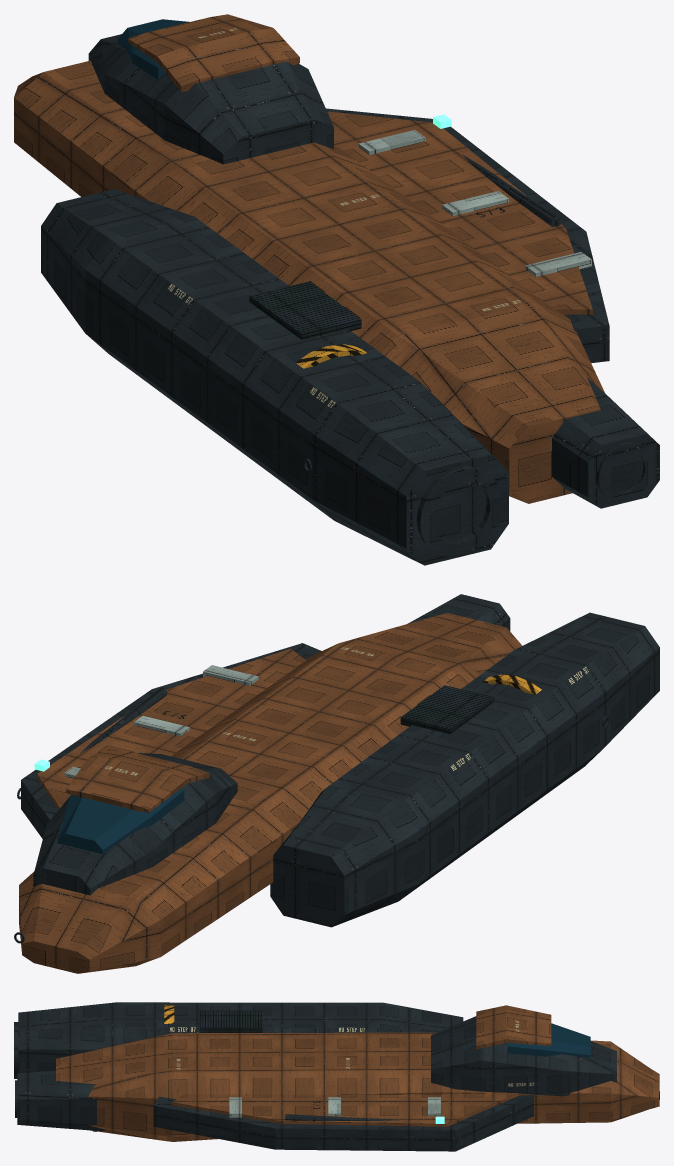
Rendered from ship_shrike.glb.
The picture shows the model from 3 angles, top to bottom: view 1: azimuth 30°, elevation 25°; view 2: azimuth 150°, elevation 25°; view 3: azimuth 270°, elevation 25°; orthographic projection. The views are drawn at different scales.
Parts seen in each view (by area): view 1: Frame, Bronze, Thermal, Cream, Glass, Safety; view 2: Bronze, Frame, Glass, Thermal, Cream, Safety; view 3: Bronze, Frame, Glass, Thermal, Cream.
Boxes of the visible parts, <box> form: Frame: <box>41,34,659,565</box>; Bronze: <box>14,14,605,503</box>; Thermal: <box>249,281,361,340</box>; Cream: <box>358,130,591,276</box>; Glass: <box>118,19,189,80</box>; Safety: <box>268,344,366,435</box>; Bronze: <box>19,613,522,973</box>; Frame: <box>14,594,659,943</box>; Glass: <box>57,788,184,854</box>; Thermal: <box>400,685,494,734</box>; Cream: <box>64,665,258,778</box>; Safety: <box>482,674,569,747</box>; Bronze: <box>56,1005,659,1141</box>; Frame: <box>14,1002,659,1151</box>; Glass: <box>508,1023,590,1057</box>; Thermal: <box>199,1010,262,1032</box>; Cream: <box>229,1097,440,1117</box>.
Bounding box in the file's own units: 10.74 × 4.81 × 23.84.
9 materials, 7 textured.
